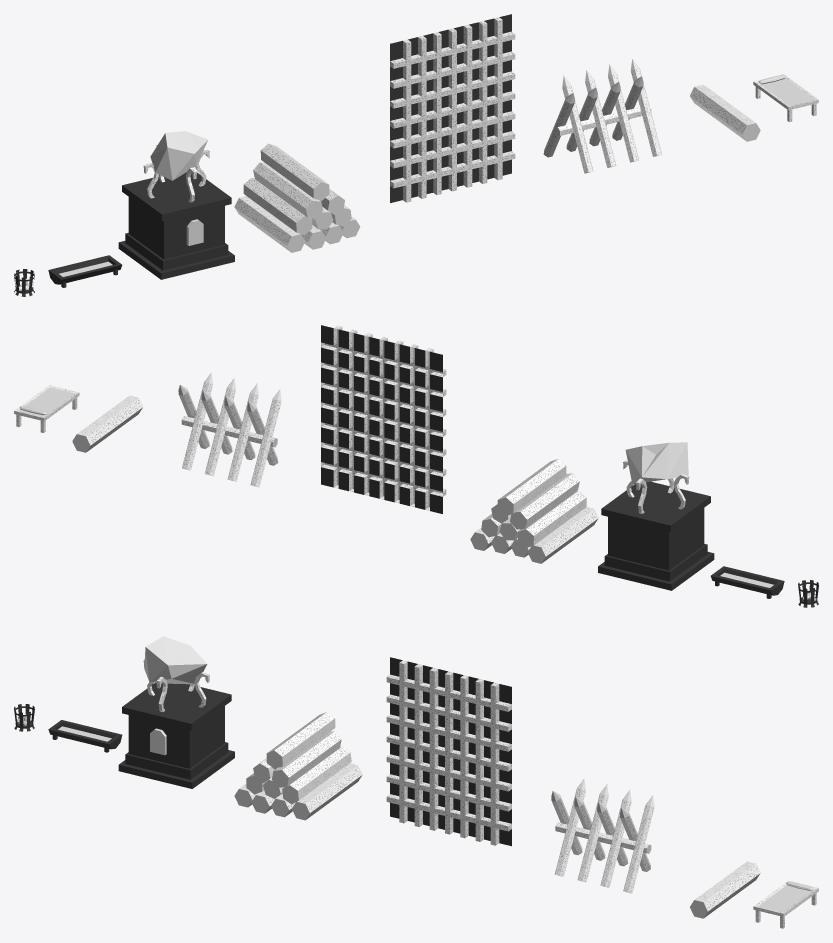
Rendered from mod_details_special.fbx.
The picture shows the model from 3 angles, top to bottom: view 1: azimuth 30°, elevation 25°; view 2: azimuth 150°, elevation 25°; view 3: azimuth 330°, elevation 25°; orthographic projection.
Visible parts, largest first — view 1: gate, stone_statue, log_pile_thick, barricade, log, bed_hospital, animal_foodContainer; view 2: gate, stone_statue, log_pile_thick, barricade, log, bed_hospital, animal_foodContainer; view 3: gate, stone_statue, log_pile_thick, barricade, log, bed_hospital, animal_foodContainer.
Boxes of the visible parts, x1,y1,x2,y2 form: gate: (390, 14, 515, 202); stone_statue: (118, 131, 234, 279); log_pile_thick: (234, 143, 360, 252); barricade: (543, 59, 661, 173); log: (690, 84, 760, 141); bed_hospital: (753, 74, 818, 121); animal_foodContainer: (48, 255, 122, 287); gate: (321, 325, 446, 513); stone_statue: (598, 442, 714, 590); log_pile_thick: (470, 459, 598, 563); barricade: (178, 372, 281, 487); log: (72, 395, 142, 452); bed_hospital: (14, 385, 79, 432); animal_foodContainer: (710, 566, 784, 598); gate: (386, 657, 511, 846); stone_statue: (118, 636, 234, 788); log_pile_thick: (234, 712, 362, 820); barricade: (551, 778, 654, 893); log: (690, 861, 760, 918); bed_hospital: (753, 880, 818, 928); animal_foodContainer: (48, 720, 122, 752).
Size of the model in its own units: 25.8 by 5.17 by 3.28.
